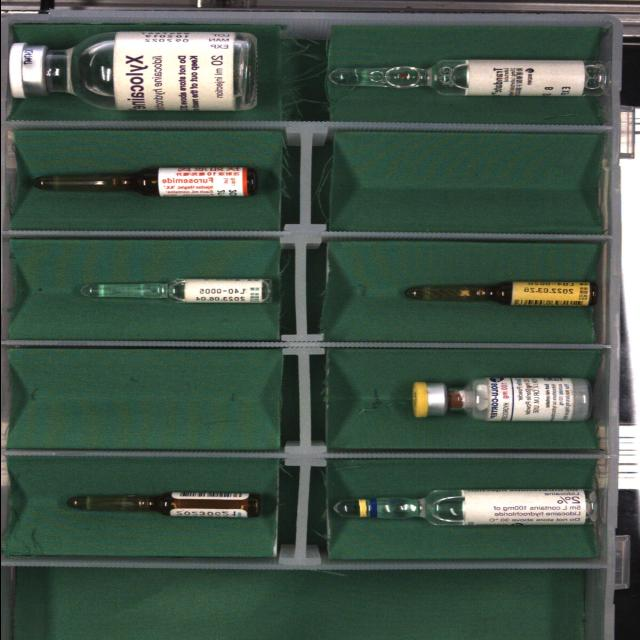Vials: (9, 31, 255, 110), (412, 377, 589, 421)
